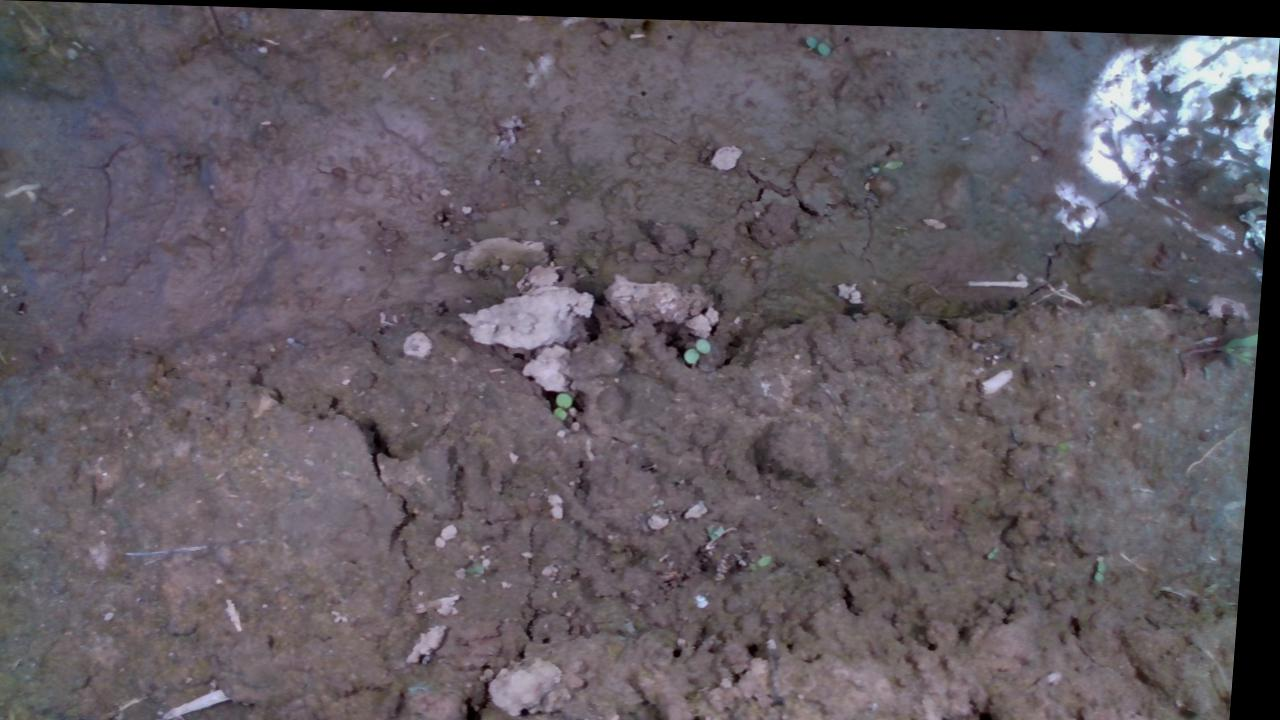weed: (538, 375, 587, 418), (686, 328, 727, 362)
